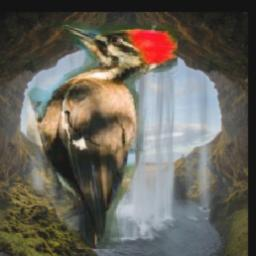Woodpecker: (23, 22, 179, 250)
